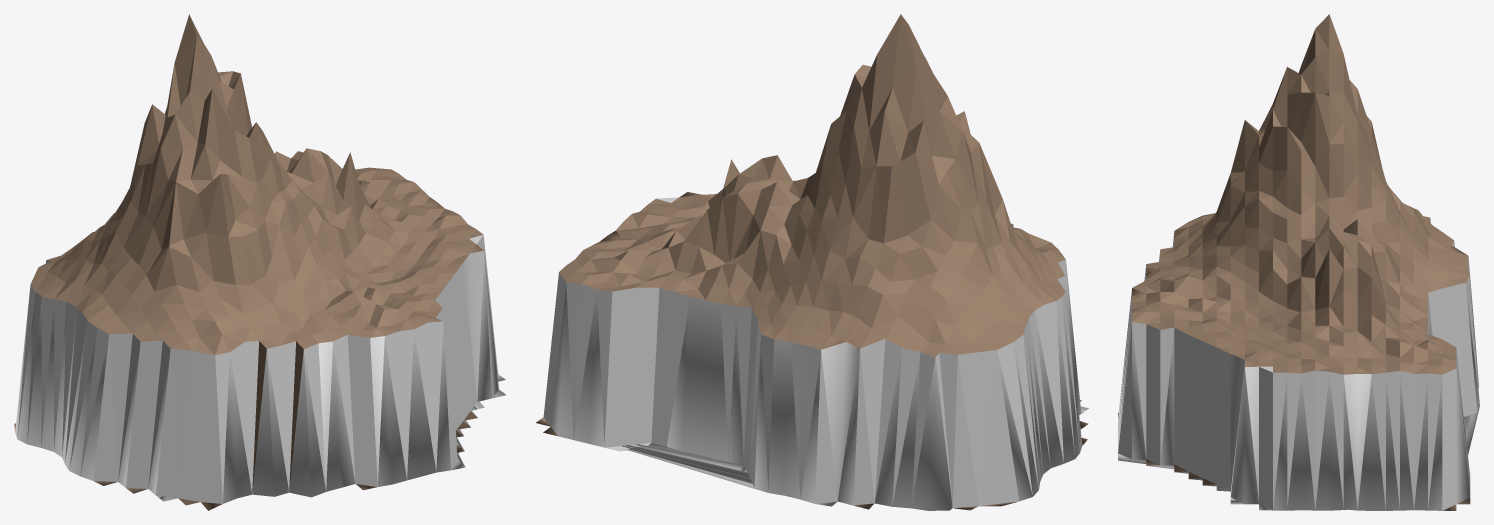
File: Mountain_01.fbx
3 views of the same model, side by side, from view 1: azimuth 30°, elevation 25°; view 2: azimuth 150°, elevation 25°; view 3: azimuth 270°, elevation 25° (orthographic). The views are drawn at different scales.
Parts seen in each view (by area): view 1: Mountain_01; view 2: Mountain_01; view 3: Mountain_01.
Boxes of the visible parts, x1,y1,x2,y2 form: Mountain_01: [14, 14, 505, 510]; Mountain_01: [536, 14, 1088, 510]; Mountain_01: [1118, 14, 1479, 510].
Size of the model in its own units: 14030 by 12922 by 11234.
